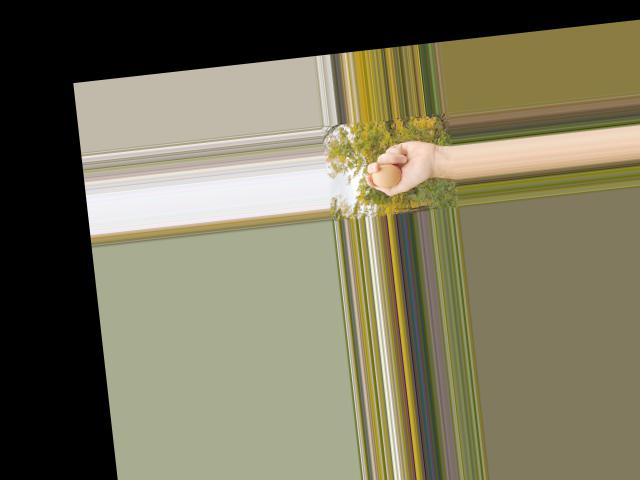egg: (370, 161, 402, 188)
